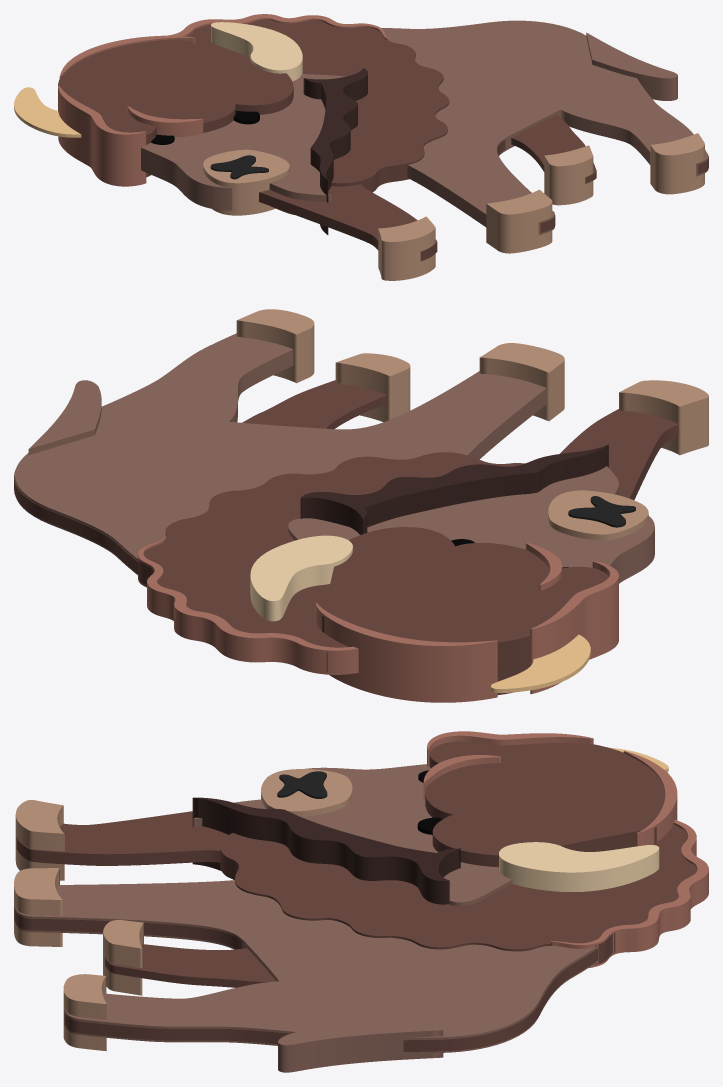
Rendered from emoji_u1f9ac.glb.
The picture shows the model from 3 angles, top to bottom: view 1: azimuth 30°, elevation 25°; view 2: azimuth 150°, elevation 25°; view 3: azimuth 270°, elevation 25°; orthographic projection. The views are drawn at different scales.
Visible parts, largest first — view 1: emoji_u1f9ac; view 2: emoji_u1f9ac; view 3: emoji_u1f9ac.
Part boxes in pixels (box(x1,y1,x2,y2)): emoji_u1f9ac: box(14, 14, 708, 280); emoji_u1f9ac: box(14, 309, 708, 702); emoji_u1f9ac: box(14, 731, 708, 1072).
Bounding box in the file's own units: 0.0339 × 0.0034 × 0.0321.
